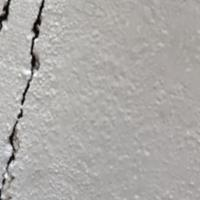crack: (0, 0, 51, 195)
